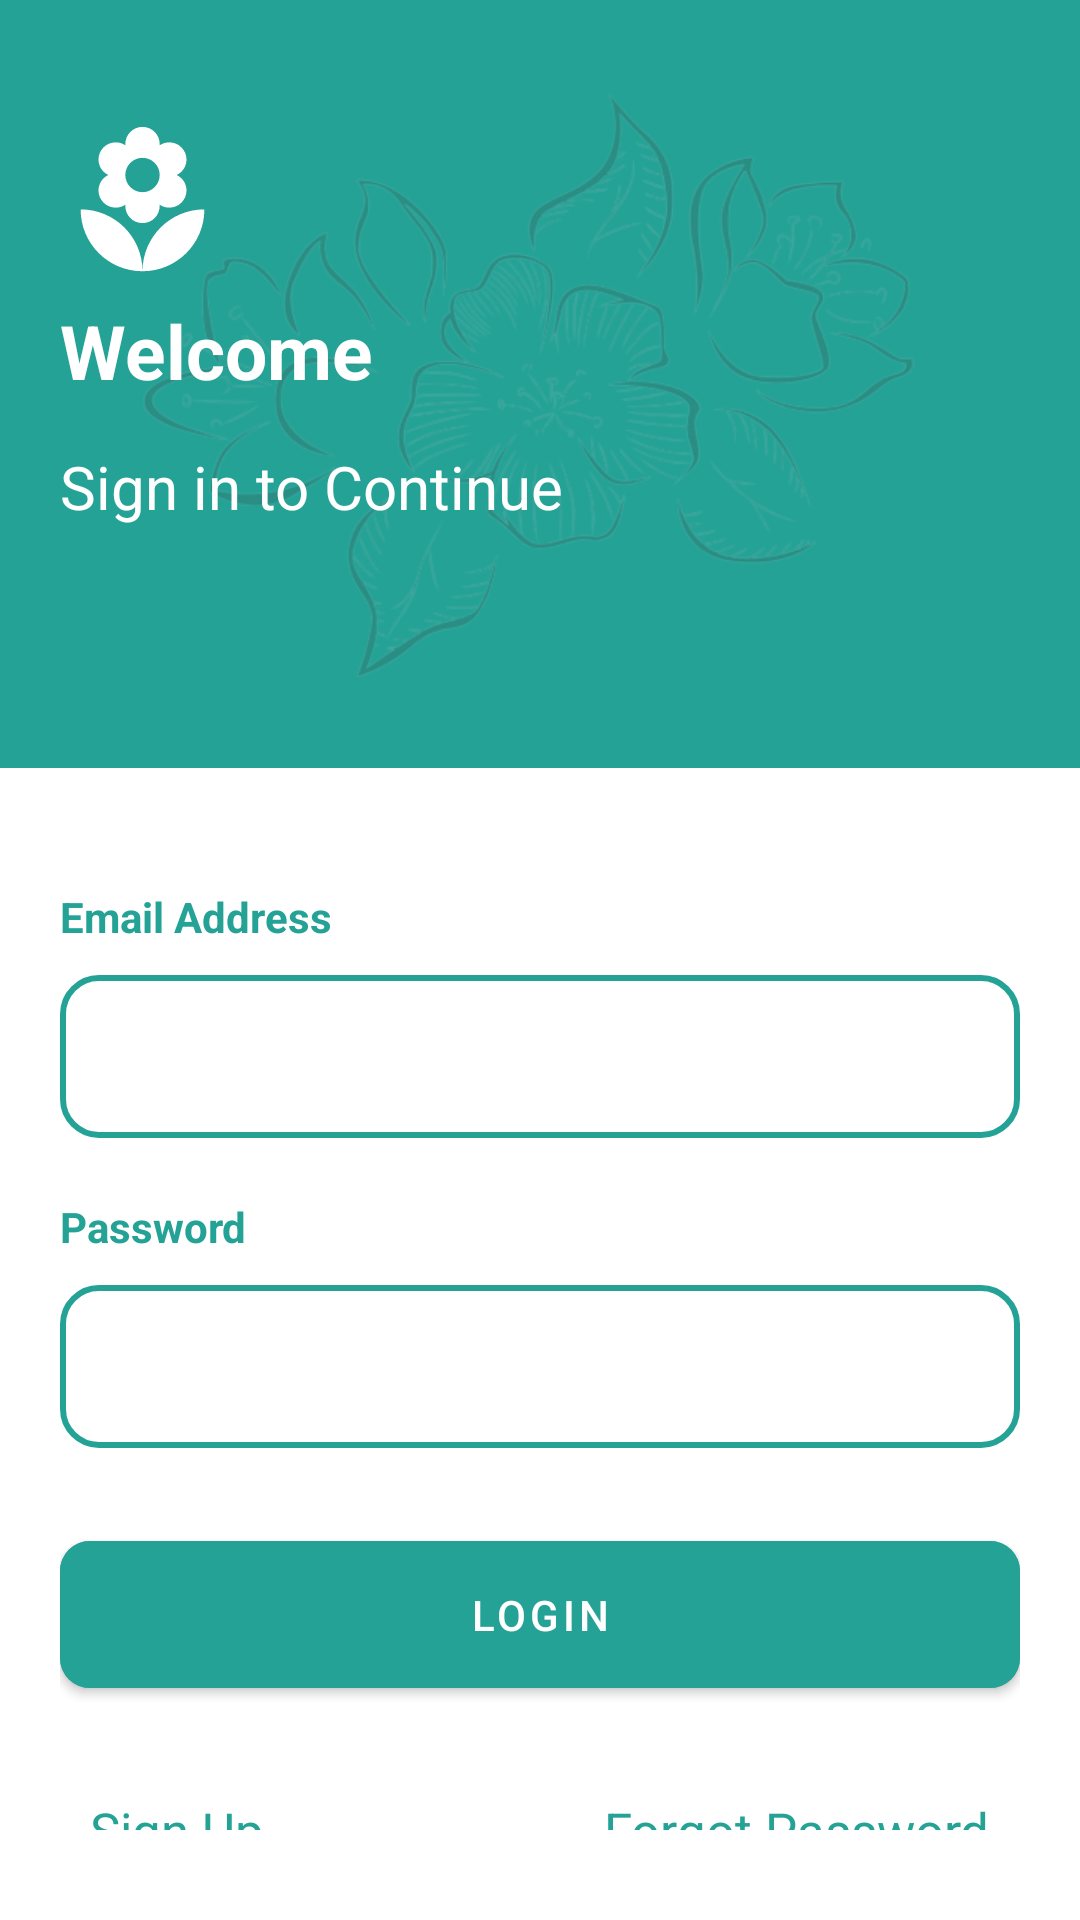

Named icons in this screenshot (1080px×1920px) and their centers, [x,y]:
local florist: [142,199]
